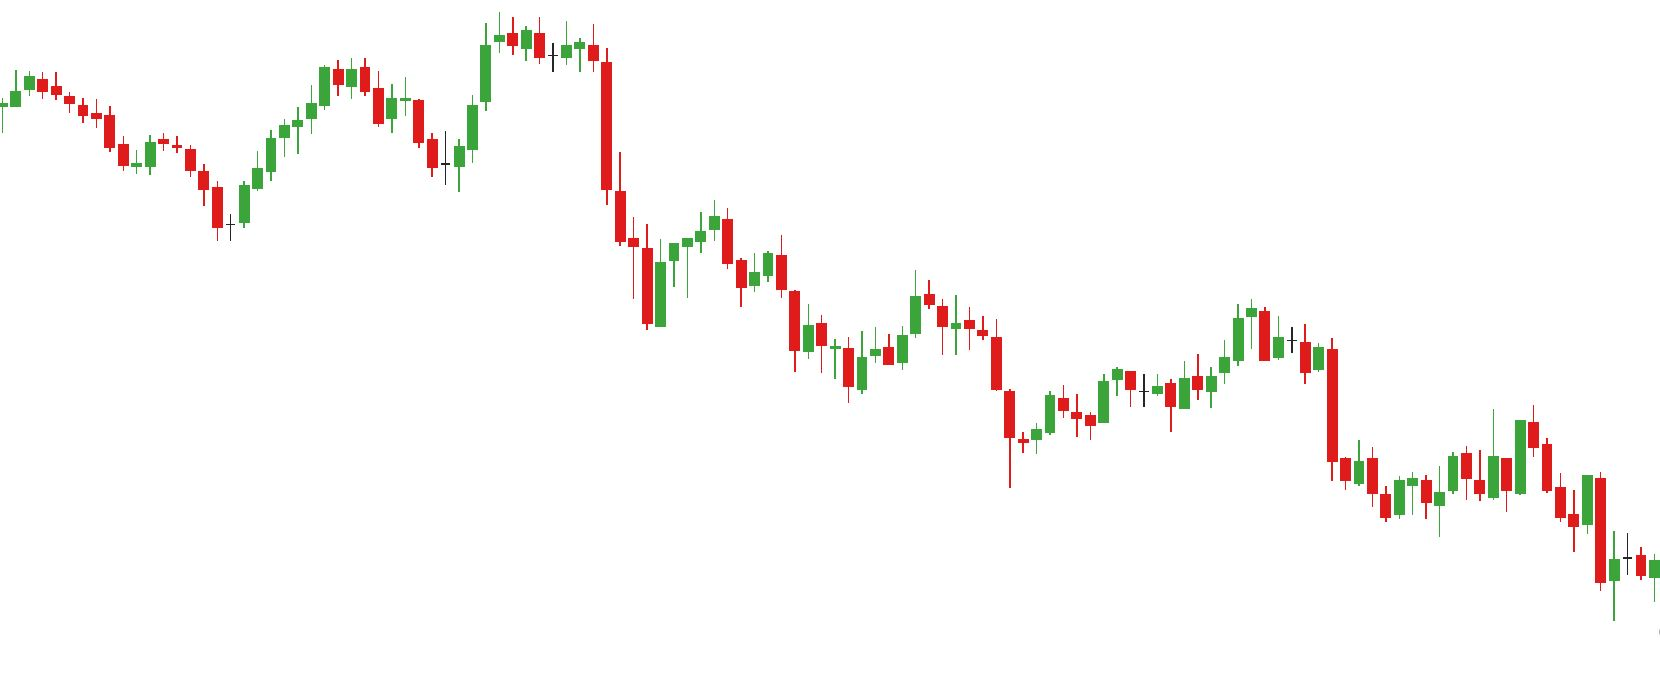sell: (332, 13, 548, 106)
